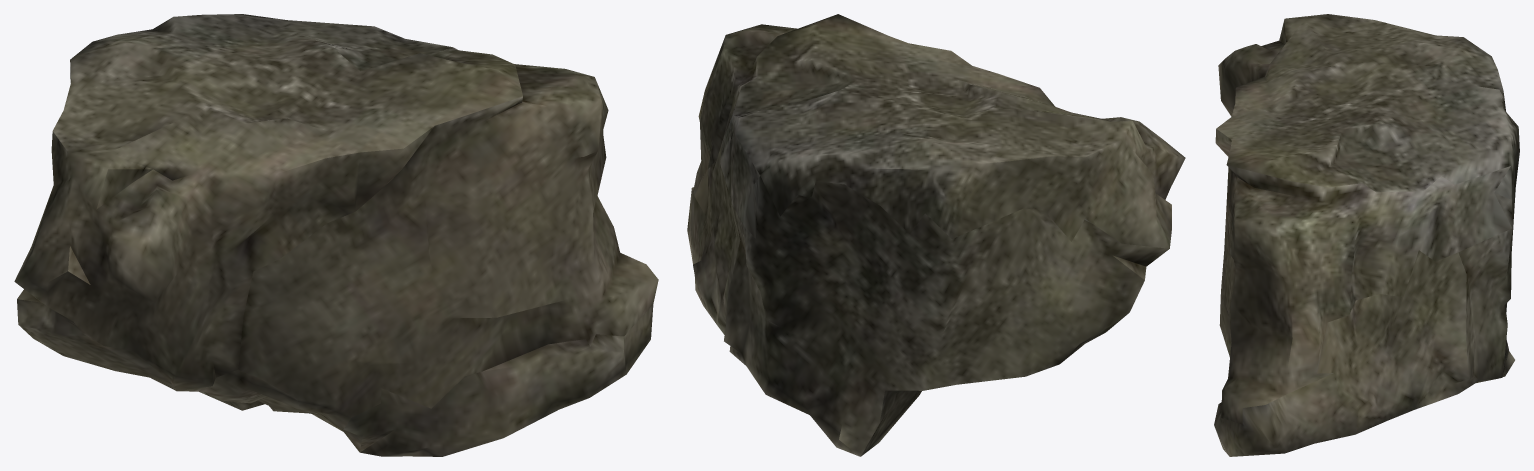
The model's file is rock_c-Dt2VR7EO.glb.
The picture shows the model from 3 angles, left to right: view 1: azimuth 30°, elevation 25°; view 2: azimuth 150°, elevation 25°; view 3: azimuth 270°, elevation 25°; orthographic projection. The views are drawn at different scales.
Visible parts, largest first — view 1: rock_c; view 2: rock_c; view 3: rock_c.
Part boxes in pixels (bbox=[...]): rock_c: bbox=[14, 14, 658, 456]; rock_c: bbox=[687, 14, 1185, 456]; rock_c: bbox=[1214, 14, 1519, 456].
Bounding box in the file's own units: 1.3 × 0.7767 × 0.706.
1 material, 1 textured.
